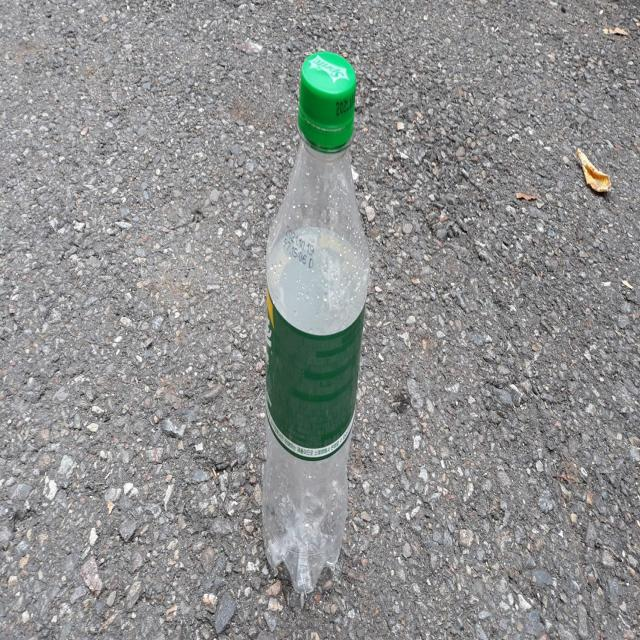plastic: (262, 50, 370, 593)
